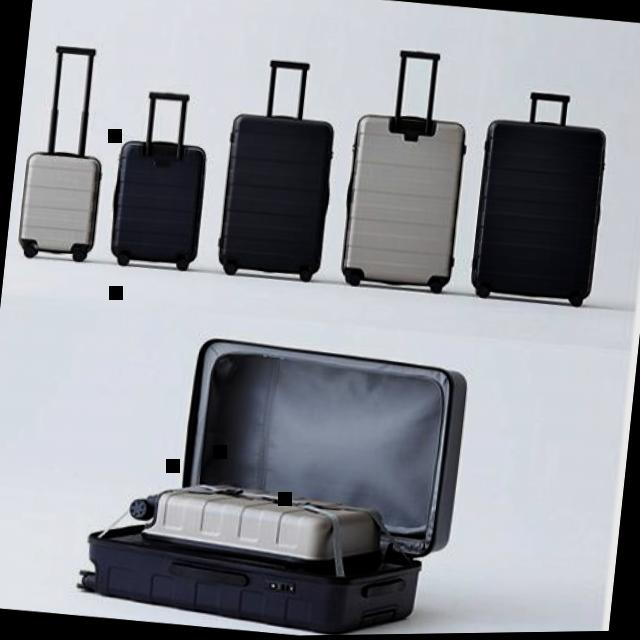luggage: (464, 109, 619, 307), (329, 105, 474, 295), (208, 106, 338, 281), (101, 130, 212, 270), (8, 142, 110, 260)
